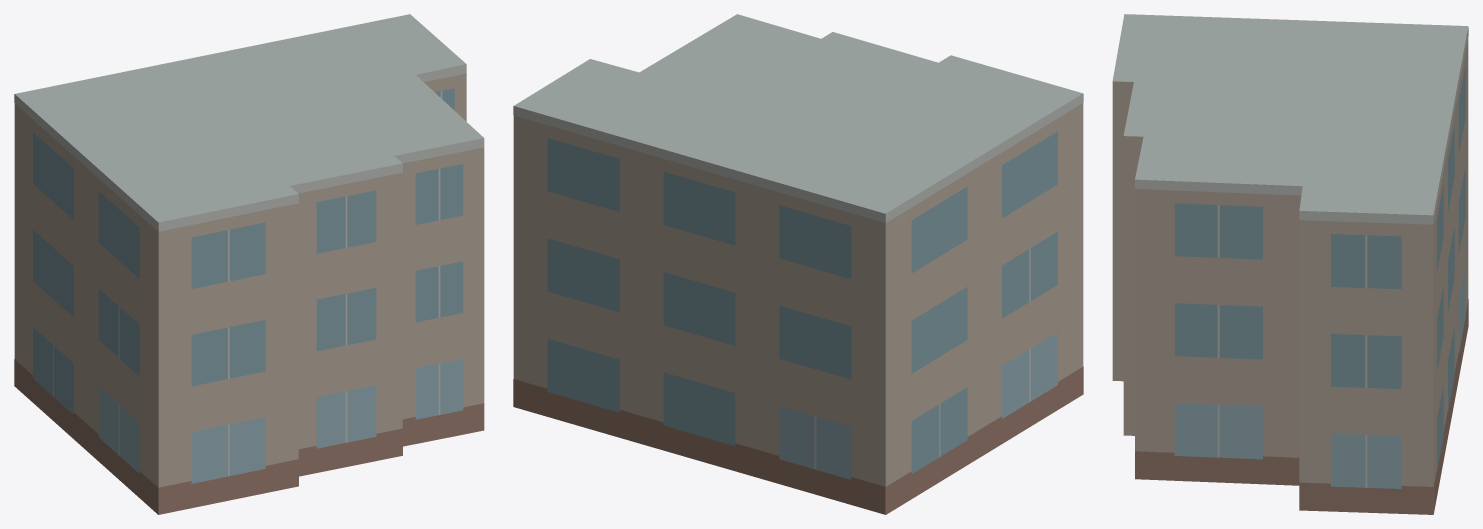
Rendered from survey-upis-33009519.glb.
3 renders of one model, left to right at view 1: azimuth 30°, elevation 25°; view 2: azimuth 150°, elevation 25°; view 3: azimuth 270°, elevation 25°, orthographic. The views are drawn at different scales.
Visible parts, largest first — view 1: survey-upis-33009519.tmp; view 2: survey-upis-33009519.tmp; view 3: survey-upis-33009519.tmp.
Part boxes in pixels (x1,y1,x2,y2): survey-upis-33009519.tmp: [14, 14, 484, 514]; survey-upis-33009519.tmp: [513, 14, 1083, 514]; survey-upis-33009519.tmp: [1112, 14, 1468, 514].
Bounding box in the file's own units: 11.25 × 7.8 × 8.41.
